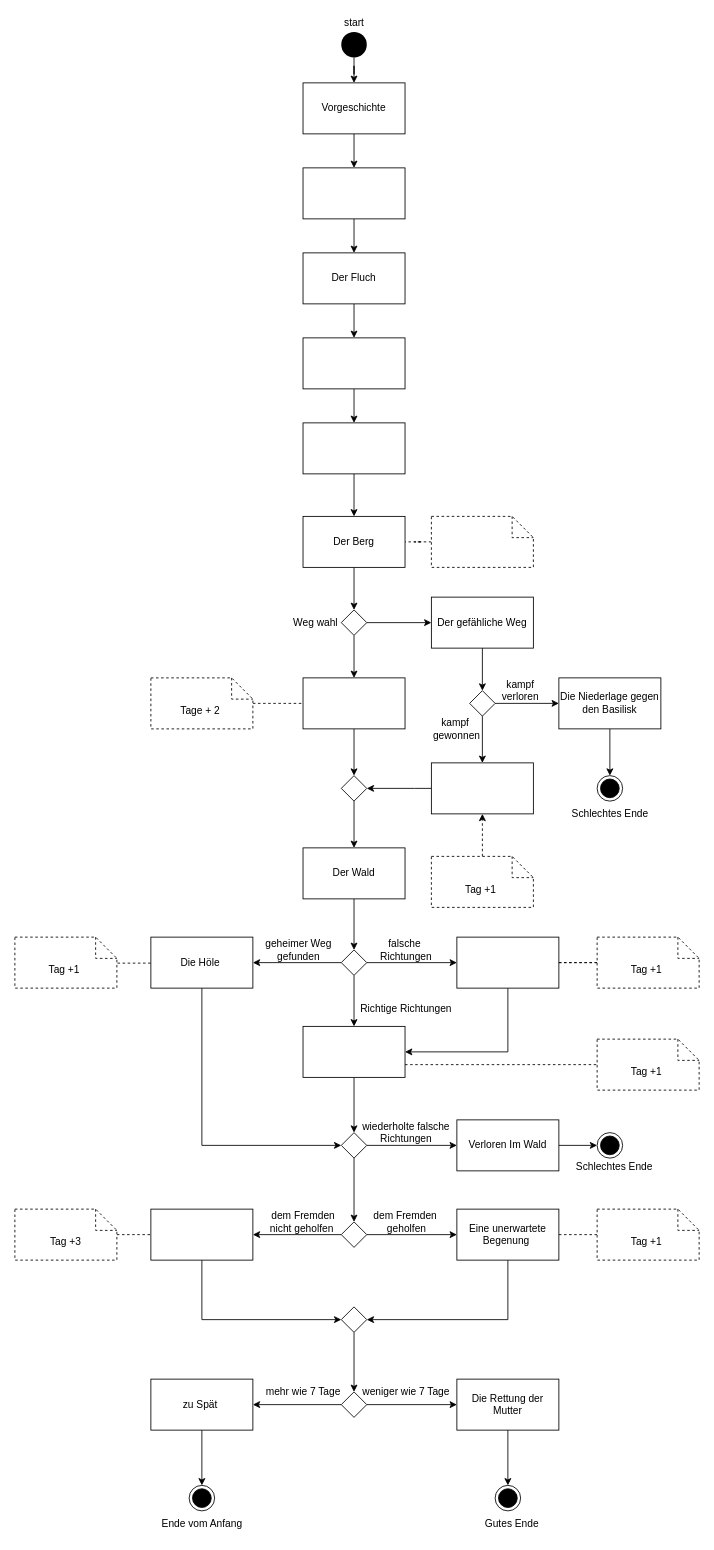
Image size: 714x1550. Some labels were removed from this diagram. Each missing label, with the box of its shape:
Das Blunmenfeld: (302, 1026, 405, 1077)
Der Falsche Weg: (456, 936, 559, 988)
Der Fremde: (302, 422, 405, 474)
Der Lange Weg: (302, 677, 405, 729)
Der Sieg über den Basilik: (431, 762, 533, 814)
Der Weg zurück: (150, 1208, 253, 1260)
Die Wiese: (302, 337, 405, 389)
Kindheit: (302, 167, 405, 219)
Tage +1: (431, 516, 533, 567)
